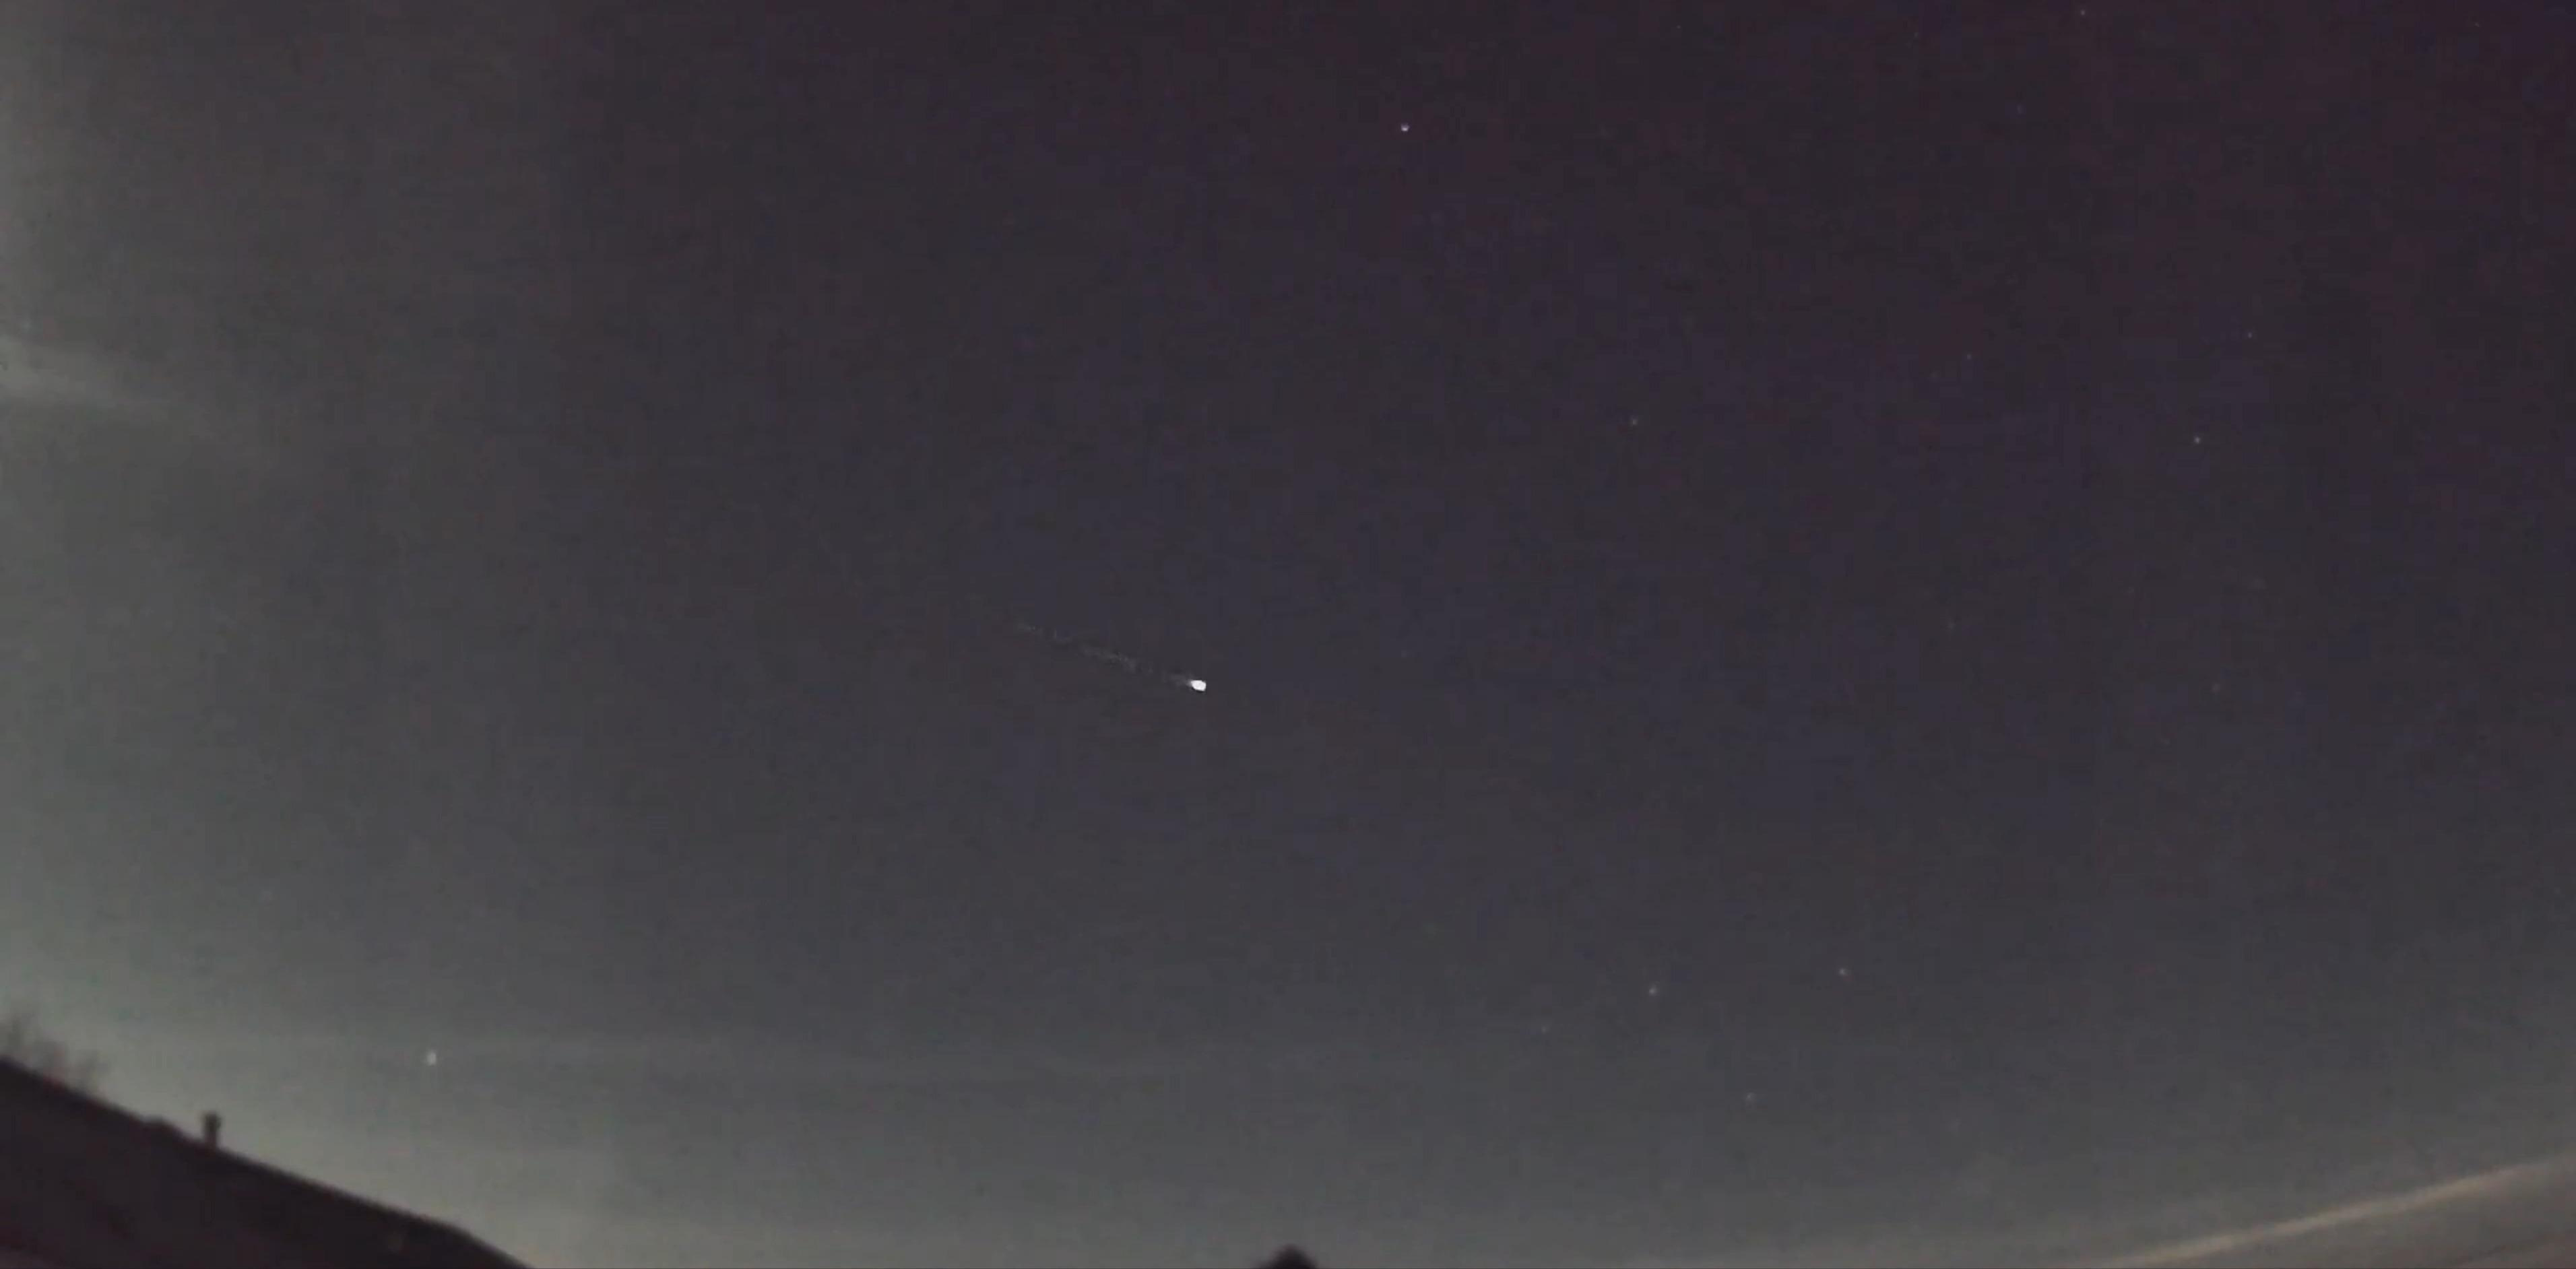meteorite: (1046, 630, 1231, 706)
